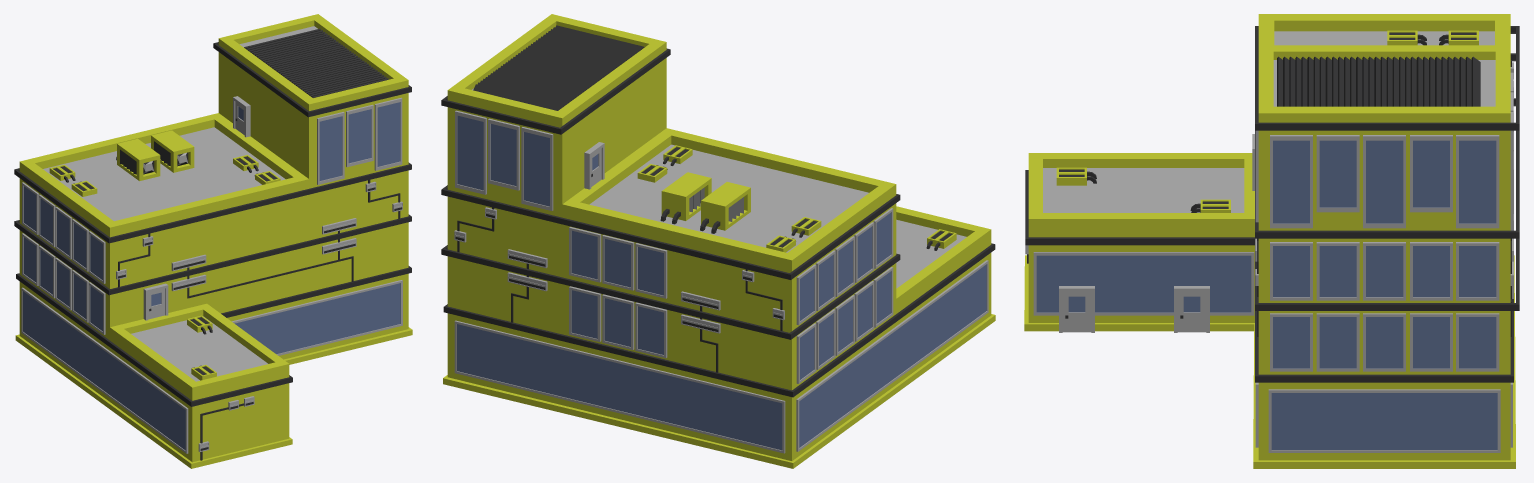
Rendered from Building10_3.fbx.
The picture shows the model from 3 angles, left to right: view 1: azimuth 30°, elevation 25°; view 2: azimuth 150°, elevation 25°; view 3: azimuth 270°, elevation 25°; orthographic projection. The views are drawn at different scales.
Parts seen in each view (by area): view 1: Building10_3; view 2: Building10_3; view 3: Building10_3.
Part boxes in pixels (left/top/right/bottom): Building10_3: left=14, top=14, right=412, bottom=468; Building10_3: left=441, top=14, right=995, bottom=468; Building10_3: left=1024, top=14, right=1519, bottom=468.
Size of the model in its own units: 1275 by 1021 by 1293.
